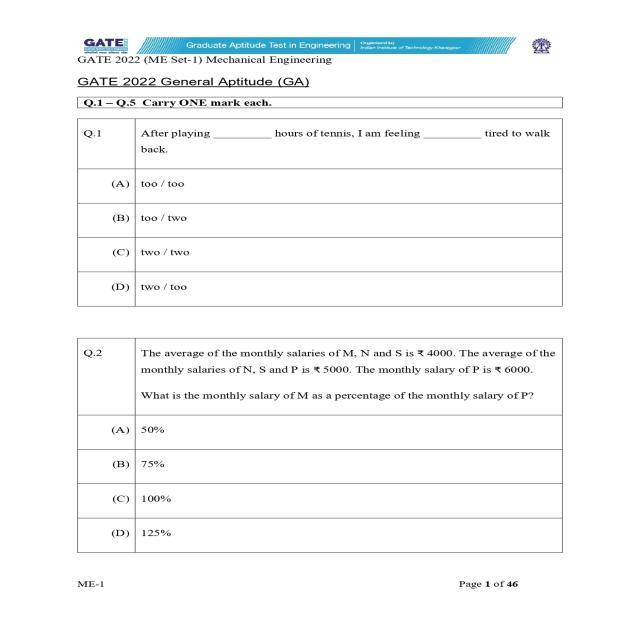Answer_Block: (79, 414, 564, 555), (77, 168, 564, 306)
Instruction: (75, 96, 566, 109)
Question_Answer_Block: (77, 337, 566, 554), (76, 118, 562, 307)
Question_Block: (75, 336, 566, 414), (75, 117, 566, 167)
Question_Paper_Area: (77, 74, 564, 551)
